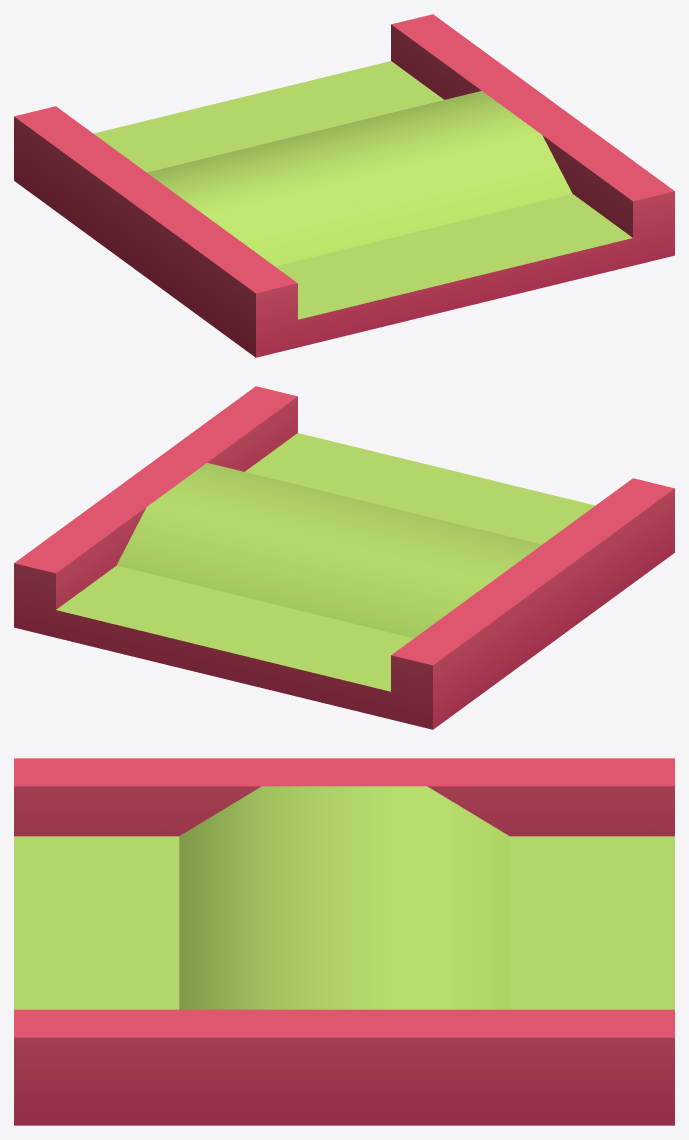
The model's file is hill-square.gltf.
The picture shows the model from 3 angles, top to bottom: view 1: azimuth 30°, elevation 25°; view 2: azimuth 150°, elevation 25°; view 3: azimuth 270°, elevation 25°; orthographic projection. The views are drawn at different scales.
Parts seen in each view (by area): view 1: hill-square; view 2: hill-square; view 3: hill-square.
Boxes of the visible parts, x1=… form: hill-square: x1=14, y1=14, x2=674, y2=357; hill-square: x1=14, y1=386, x2=674, y2=729; hill-square: x1=14, y1=758, x2=674, y2=1125.
Size of the model in its own units: 0.9999 by 0.1467 by 0.9999.
Materials: 1 (1 with a texture image).
